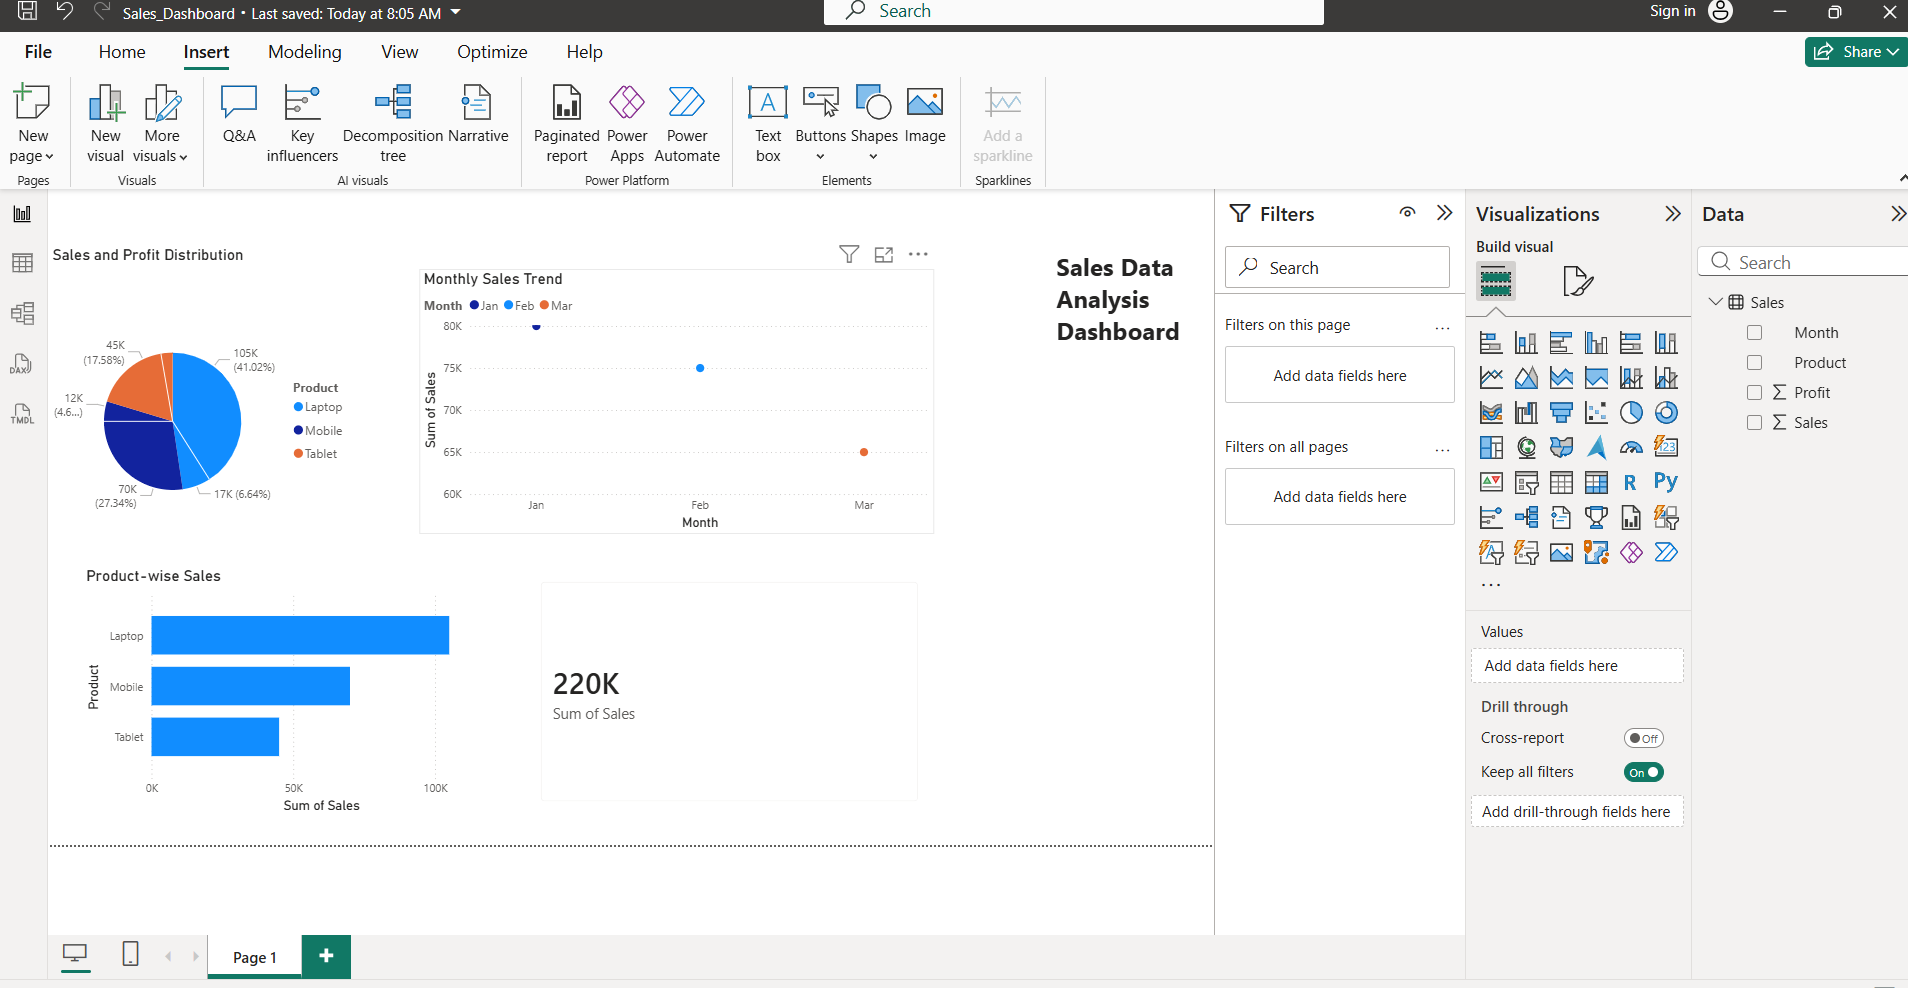

This screenshot's page, from the dashboard's own definition file:
{"tool":"powerbi","page":{"name":"Page 1","canvas":[1280,720],"ordinal":0},"visuals":[{"type":"lineChart","title":"Monthly Sales Trend","fields":{"Category":["Sales.Month"],"Y":["Sum(Sales.Sales)"],"Series":["Sales.Month"]},"box":[407.5,87.8,565.4,290.9],"z":0},{"type":"pieChart","title":"Sales and Profit Distribution","fields":{"Y":["Sum(Sales.Sales)","Sum(Sales.Profit)"],"Category":["Sales.Product"]},"box":[0,61.7,343.1,367.8],"z":1000},{"type":"textbox","box":[1102,62,178,572],"z":1001},{"type":"clusteredBarChart","title":"Product-wise Sales","fields":{"Y":["Sum(Sales.Sales)"],"Category":["Sales.Product"]},"box":[37,414.4,469.3,275.8],"z":1002},{"type":"cardVisual","fields":{"Data":["Sum(Sales.Sales)"]},"box":[524.2,414.4,448.7,275.8],"z":1003}]}

Visuals, with their boxes on the page's 1280x720 design canvas (x1, y1, x2, y2). These are canvas units, not pixel positions in the 1908x988 screenshot, which may show the page scaled, cropped or inside an application window:
"Monthly Sales Trend" lineChart: BBox(408, 88, 973, 379)
"Sales and Profit Distribution" pieChart: BBox(0, 62, 343, 430)
textbox: BBox(1102, 62, 1280, 634)
"Product-wise Sales" clusteredBarChart: BBox(37, 414, 506, 690)
cardVisual - Sum(Sales.Sales): BBox(524, 414, 973, 690)
